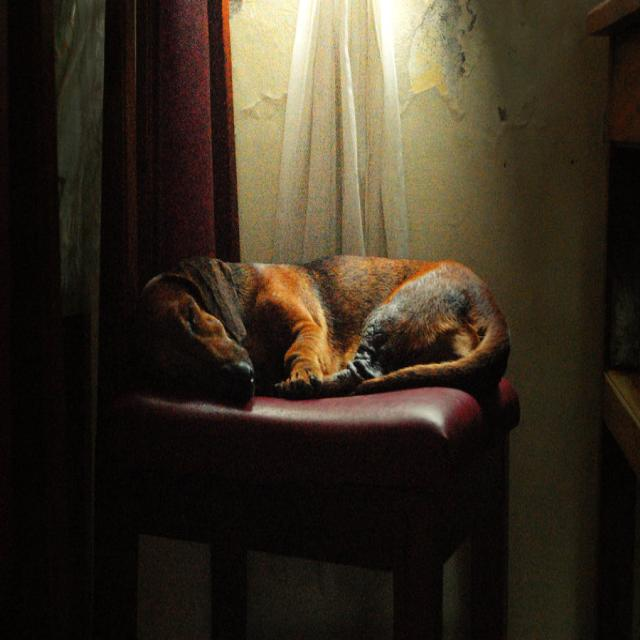Dog: (131, 199, 530, 423)
